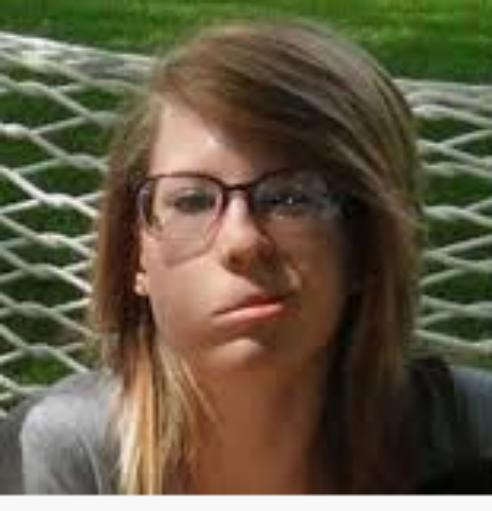right_eye: (169, 189, 215, 217)
right_lip_corner: (203, 305, 233, 329), (273, 288, 303, 311)
